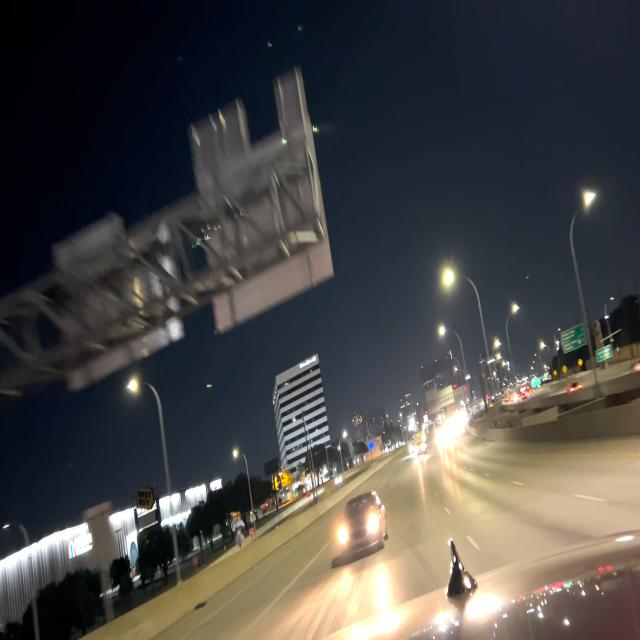back-of-sign: (190, 69, 335, 329), (52, 212, 184, 394), (425, 383, 455, 416)
